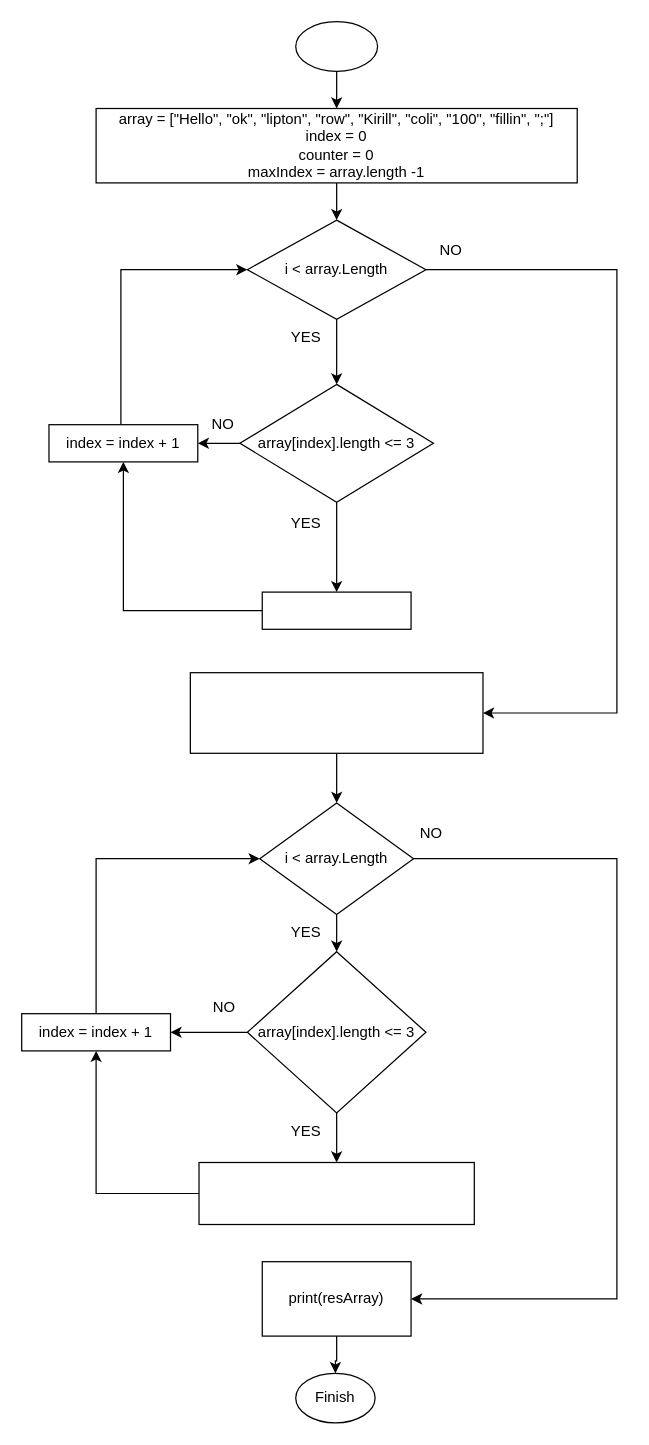
Some shapes in this 649 by 1445 pixel diagram are drawn without their labels. Here are the shapes that lost their labels. From the top down, the centre of each, then its label:
At pixel 336 45: "Start".
At pixel 336 610: "count = count + 1".
At pixel 336 712: "string resArray = new string[counter] index = 0 resArrayIndex = 0".
At pixel 336 1192: "resArray[resArrayIndex] = array[index] resArrayIndex = resArrayIndex + 1".
